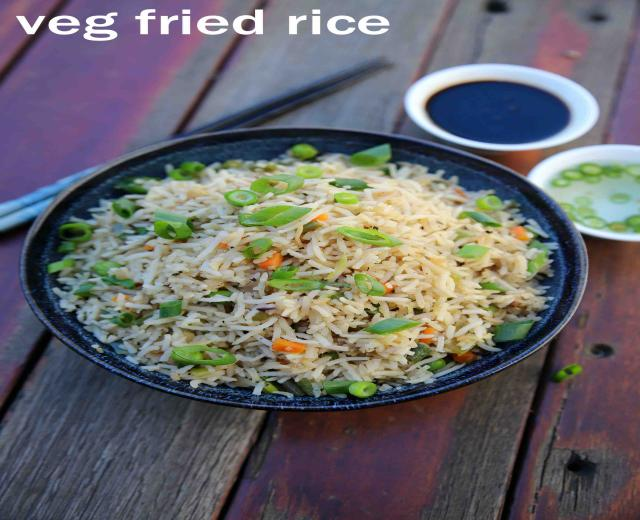dal makhni: (33, 142, 563, 393), (428, 82, 566, 142)
fried rice: (527, 144, 638, 239)
